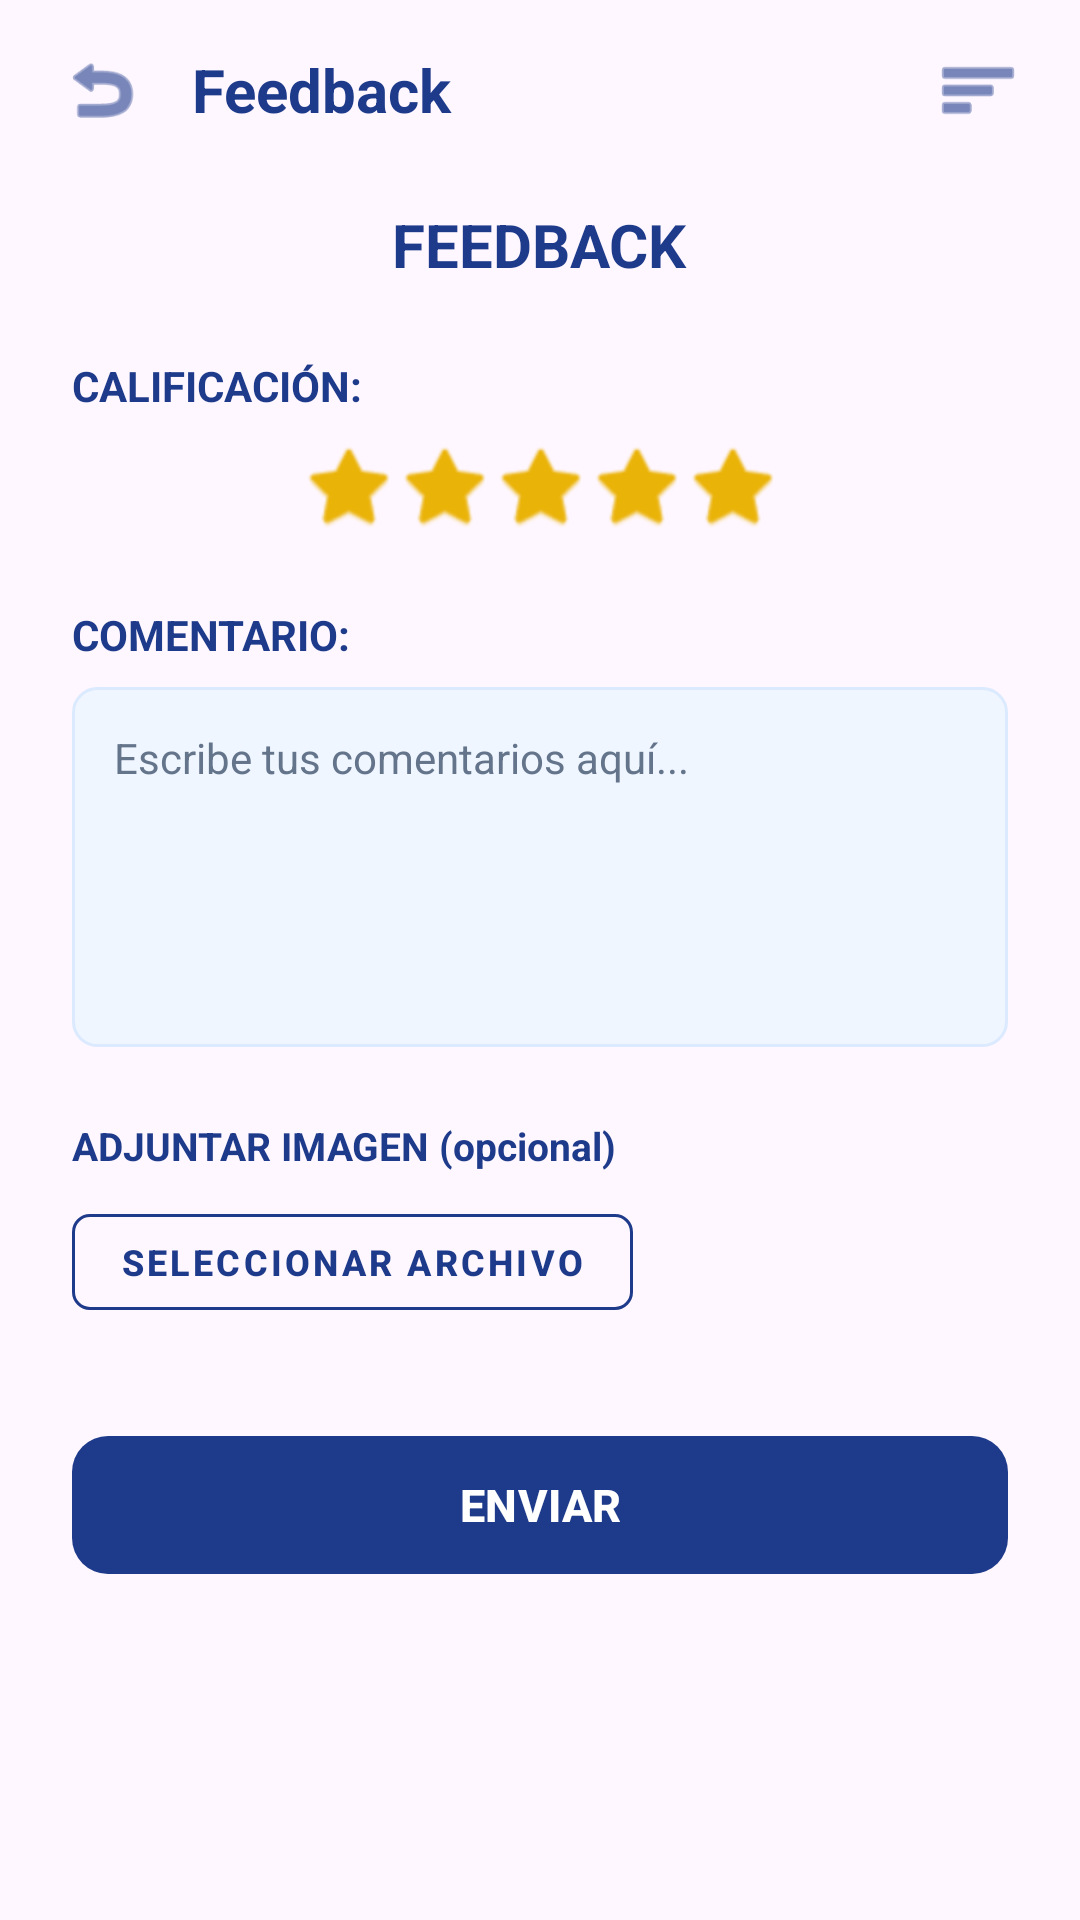

Icons on this 1080×1920 Android screen, each with the point to tap as [x,y]:
Estrella: [349,487], [445,487], [541,487], [637,487], [733,487]
Menú: [978,90]
Regresar: [103,90]
